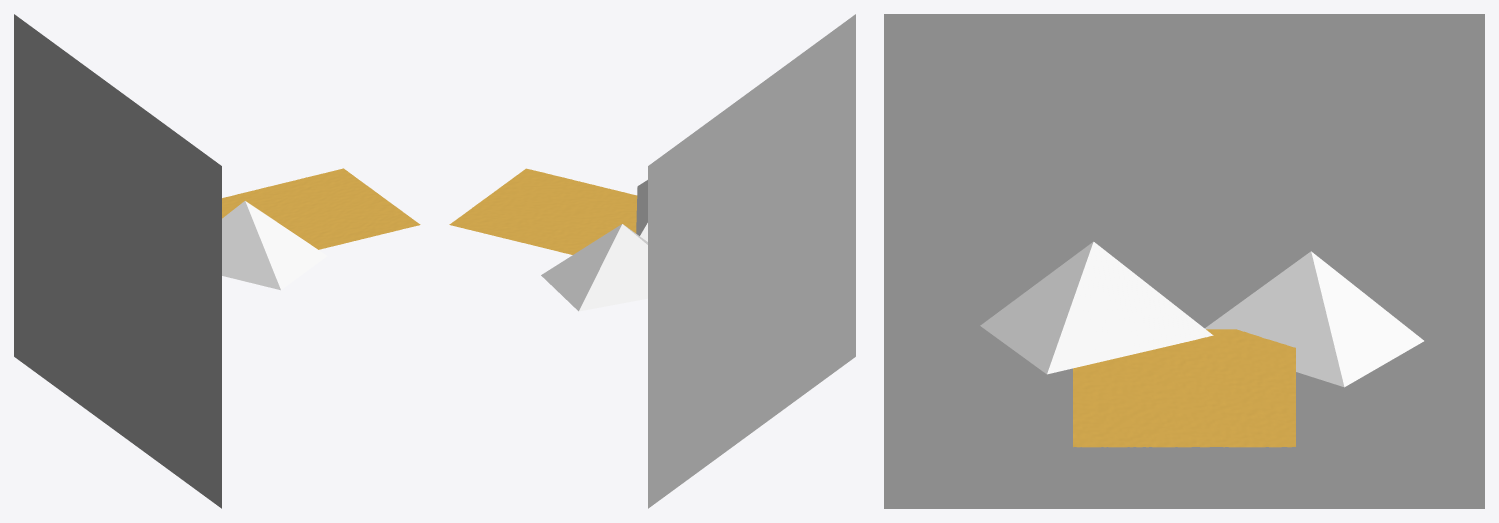
Rendered from kingdomMountains.glb.
3 renders of one model, left to right at view 1: azimuth 30°, elevation 25°; view 2: azimuth 150°, elevation 25°; view 3: azimuth 270°, elevation 25°, orthographic. The views are drawn at different scales.
Parts seen in each view (by area): view 1: Mountain Sky, Mountain_Ground; view 2: Mountain Sky, Mountain_Ground; view 3: Mountain Sky, Mountain_Ground.
Part boxes in pixels (x1,y1,x2,y2): Mountain Sky: [14, 14, 221, 508]; Mountain_Ground: [222, 168, 420, 290]; Mountain Sky: [648, 14, 855, 508]; Mountain_Ground: [449, 168, 647, 311]; Mountain Sky: [884, 14, 1484, 508]; Mountain_Ground: [980, 241, 1423, 447].
Bounding box in the file's own units: 403 × 500 × 550.
